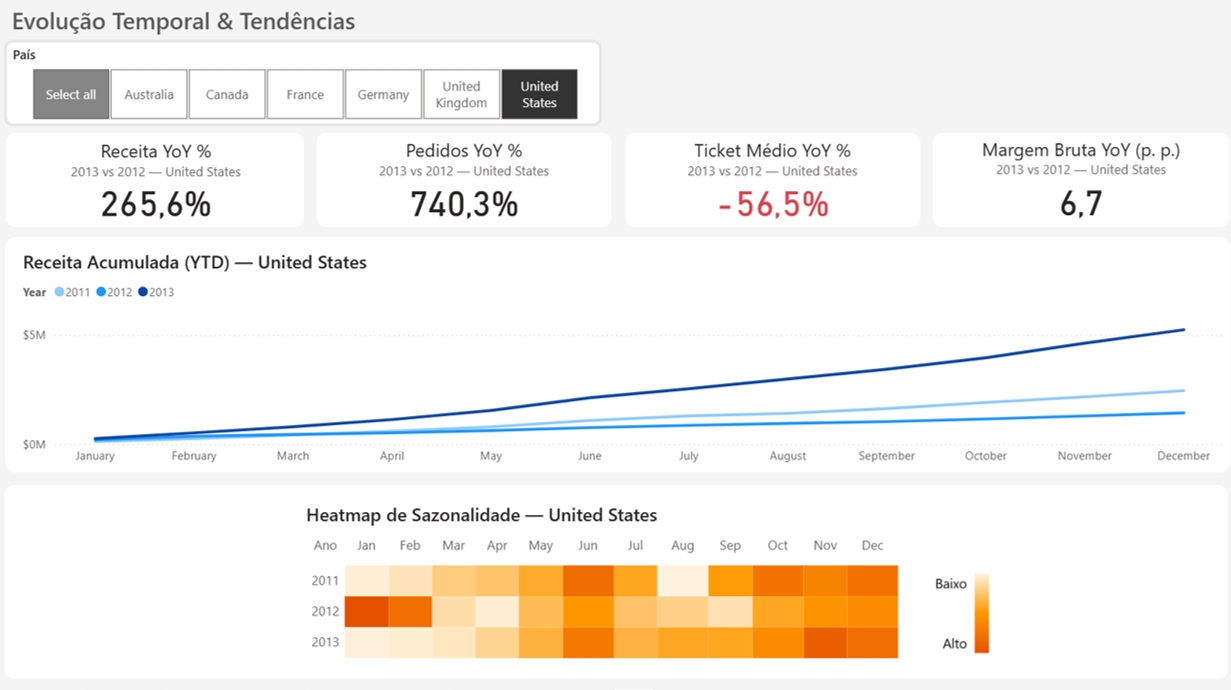

The page's visual inventory and layout, read from the dashboard file:
{"tool":"powerbi","page":{"name":"Tempo & KPIs Avançados","canvas":[1280,720],"ordinal":3},"visuals":[{"type":"shape","box":[6.4,507.4,1265.2,200.2],"z":0},{"type":"shape","box":[7.3,250.5,1266.9,244.2],"z":1000},{"type":"shape","box":[6.9,46.8,618,89.5],"z":2000},{"type":"lineChart","fields":{"Category":["date_dim.Month Name"],"Y":["00_Measures.Sales YTD"],"Series":["date_dim.Year"]},"box":[21.2,262.7,1251.1,232.2],"z":3000},{"type":"slicer","title":"País","fields":{"Values":["gold dim_customers.country"]},"box":[10.6,52.8,613.2,83.4],"z":4000},{"type":"textbox","title":"Evolução Temporal & Tendências","box":[10,10,534.2,38.5],"z":5000},{"type":"shape","box":[329.6,142.5,305.3,97.9],"z":6000},{"type":"shape","box":[648.5,142.5,305.3,97.9],"z":7000},{"type":"shape","box":[966.4,142.5,307.3,97.9],"z":8000},{"type":"shape","box":[8.7,142.5,308.2,97.9],"z":9000},{"type":"card","title":"Receita YoY %","fields":{"Values":["00_Measures.Sales YoY % Last"]},"box":[11.6,148.3,304.4,92.1],"z":10000},{"type":"card","title":"Pedidos YoY %","fields":{"Values":["00_Measures.Orders YoY % Last"]},"box":[329.6,147.3,305.3,93.1],"z":11000},{"type":"card","title":"Ticket Médio YoY %","fields":{"Values":["00_Measures.AOV YoY % Last"]},"box":[648.5,147.3,305.3,93.1],"z":12000},{"type":"card","title":"Margem Bruta YoY (p. p.)","fields":{"Values":["00_Measures.Margin YoY p.p. Last (pp)"]},"box":[966.4,146.4,307.3,94],"z":13000},{"type":"pivotTable","fields":{"Rows":["date_dim.Year"],"Values":["00_Measures.% Sales In Year"],"Columns":["date_dim.Month Short"]},"box":[314.4,524,664.7,180.4],"z":14000},{"type":"image","box":[946.8,590.3,102.9,96.7],"z":15000}]}

Visuals, with their boxes in screenshot pixels (x1, y1, x2, y2), scaled from the page's 1280x720 canvas onto the 1231x690 screenshot:
shape: (6,486,1223,678)
shape: (7,240,1225,474)
shape: (7,45,601,131)
lineChart - date_dim.Month Name x 00_Measures.Sales YTD: (20,252,1224,474)
"País" slicer: (10,51,600,131)
"Evolução Temporal & Tendências" textbox: (10,10,523,46)
shape: (317,137,611,230)
shape: (624,137,917,230)
shape: (929,137,1225,230)
shape: (8,137,305,230)
"Receita YoY %" card: (11,142,304,230)
"Pedidos YoY %" card: (317,141,611,230)
"Ticket Médio YoY %" card: (624,141,917,230)
"Margem Bruta YoY (p. p.)" card: (929,140,1225,230)
pivotTable - date_dim.Year x 00_Measures.% Sales In Year: (302,502,942,675)
image: (911,566,1010,658)
